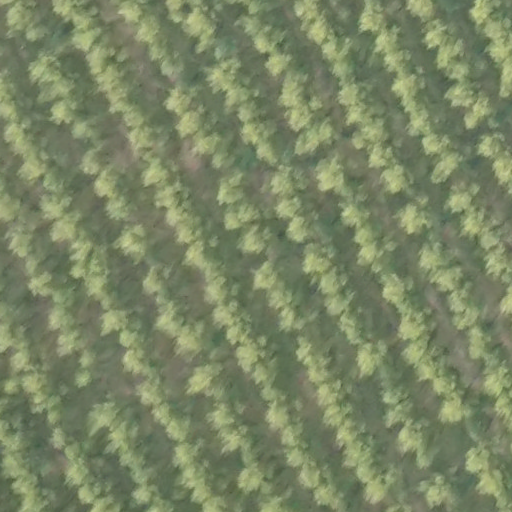eucalipto: (379, 157, 424, 205), (312, 151, 360, 195), (116, 222, 161, 266)
eucalitpo: (445, 283, 490, 330), (190, 357, 236, 399), (231, 332, 276, 374), (48, 206, 94, 246), (261, 396, 307, 434), (292, 332, 339, 367), (122, 338, 160, 381), (285, 210, 325, 250), (443, 177, 485, 215), (437, 390, 477, 429), (223, 199, 264, 237), (268, 161, 310, 198), (204, 269, 241, 311), (294, 118, 336, 154), (156, 297, 194, 336), (317, 261, 356, 299), (85, 42, 127, 77), (397, 201, 440, 235), (378, 274, 416, 312), (110, 94, 154, 126), (354, 337, 391, 375), (241, 462, 281, 497), (398, 306, 439, 340), (240, 115, 281, 149), (204, 400, 245, 434), (86, 401, 127, 435), (445, 76, 487, 109), (219, 172, 252, 214), (161, 83, 204, 115), (384, 397, 421, 434), (390, 69, 430, 103), (432, 149, 467, 187), (49, 96, 88, 130), (54, 325, 94, 358), (252, 19, 289, 54), (207, 57, 244, 92), (29, 52, 67, 86), (296, 459, 334, 493), (338, 77, 379, 108), (175, 107, 217, 137), (370, 25, 405, 61), (179, 319, 212, 357), (307, 355, 345, 388), (344, 436, 382, 469), (461, 323, 491, 364), (144, 265, 178, 301), (171, 436, 207, 470), (464, 440, 500, 474), (145, 156, 184, 187), (19, 152, 59, 182), (250, 259, 283, 295), (101, 306, 139, 337), (421, 239, 459, 270), (155, 183, 194, 213), (340, 197, 373, 232), (417, 21, 459, 48), (433, 263, 467, 296), (135, 14, 169, 47), (95, 165, 130, 197), (264, 49, 298, 81), (78, 146, 112, 177), (276, 191, 308, 223), (378, 382, 414, 410), (423, 127, 455, 157), (224, 316, 256, 346), (432, 368, 461, 401), (385, 48, 415, 79)
